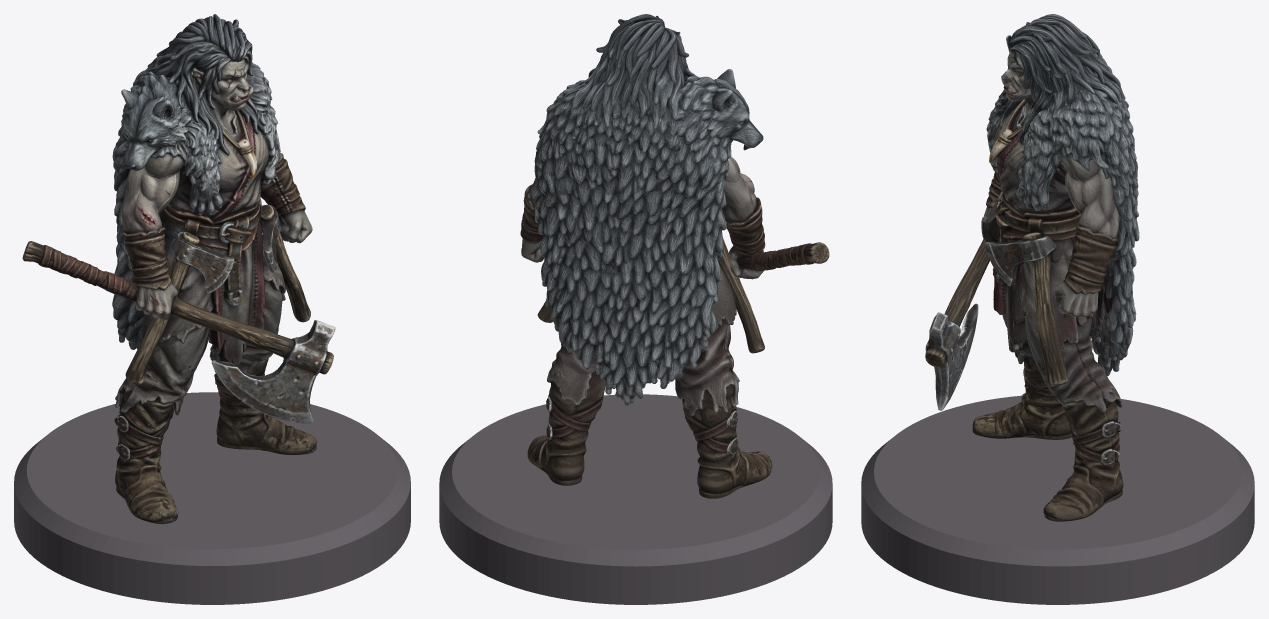
File: volen.glb
3 renders of one model, left to right at view 1: azimuth 30°, elevation 25°; view 2: azimuth 150°, elevation 25°; view 3: azimuth 270°, elevation 25°, orthographic.
Visible parts, largest first — view 1: figure, base; view 2: figure, base; view 3: figure, base.
Boxes of the visible parts, <box> form: figure: <box>22,14,335,524</box>; base: <box>14,392,410,604</box>; figure: <box>520,14,829,498</box>; base: <box>439,394,832,604</box>; figure: <box>925,14,1139,521</box>; base: <box>861,395,1254,604</box>.
Size of the model in its own units: 26.45 by 35.2 by 25.
1 material, 1 textured.
